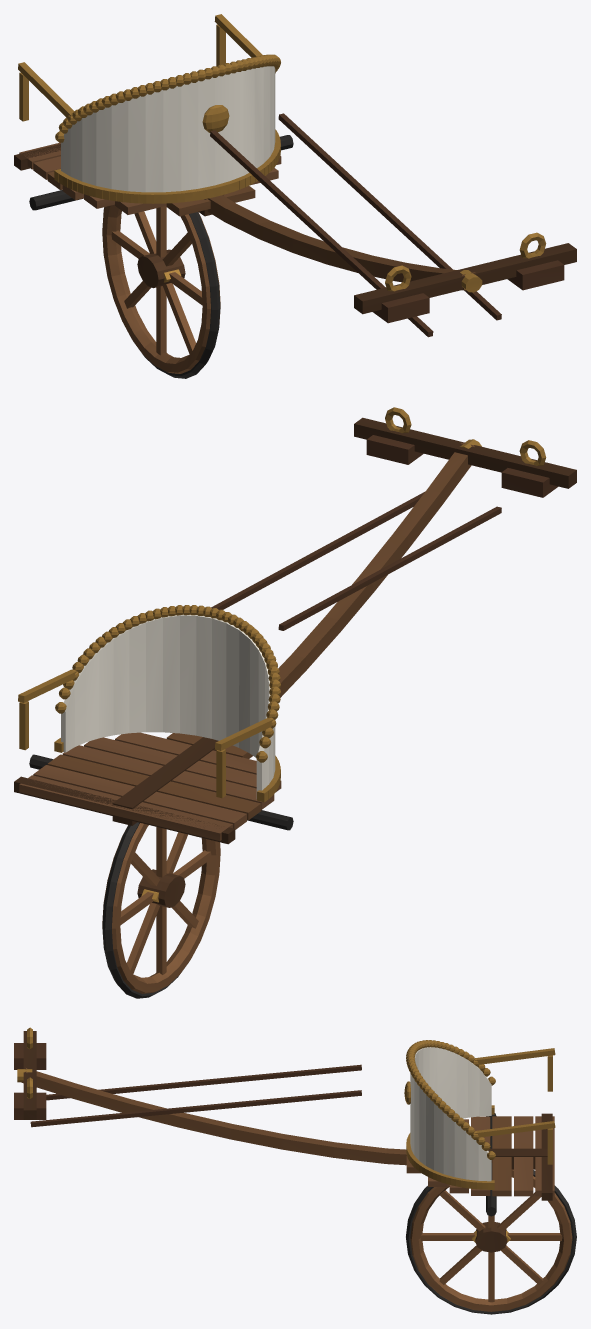
Rendered from chariot.glb.
3 views of the same model, one above another, from view 1: azimuth 30°, elevation 25°; view 2: azimuth 150°, elevation 25°; view 3: azimuth 270°, elevation 25° (orthographic). The views are drawn at different scales.
Visible parts, largest first — view 1: wood, paint, wheel; view 2: wood, paint, wheel; view 3: wood, wheel, paint.
Part boxes in pixels (<box>): wood: <box>14,14,576,337</box>; paint: <box>61,66,275,192</box>; wheel: <box>102,204,220,378</box>; wood: <box>14,407,576,844</box>; paint: <box>61,614,275,798</box>; wheel: <box>102,822,220,998</box>; wood: <box>14,1027,555,1216</box>; wheel: <box>406,1169,576,1314</box>; paint: <box>410,1047,491,1181</box>.
Size of the model in its own units: 2.1 by 2.68 by 5.25.
